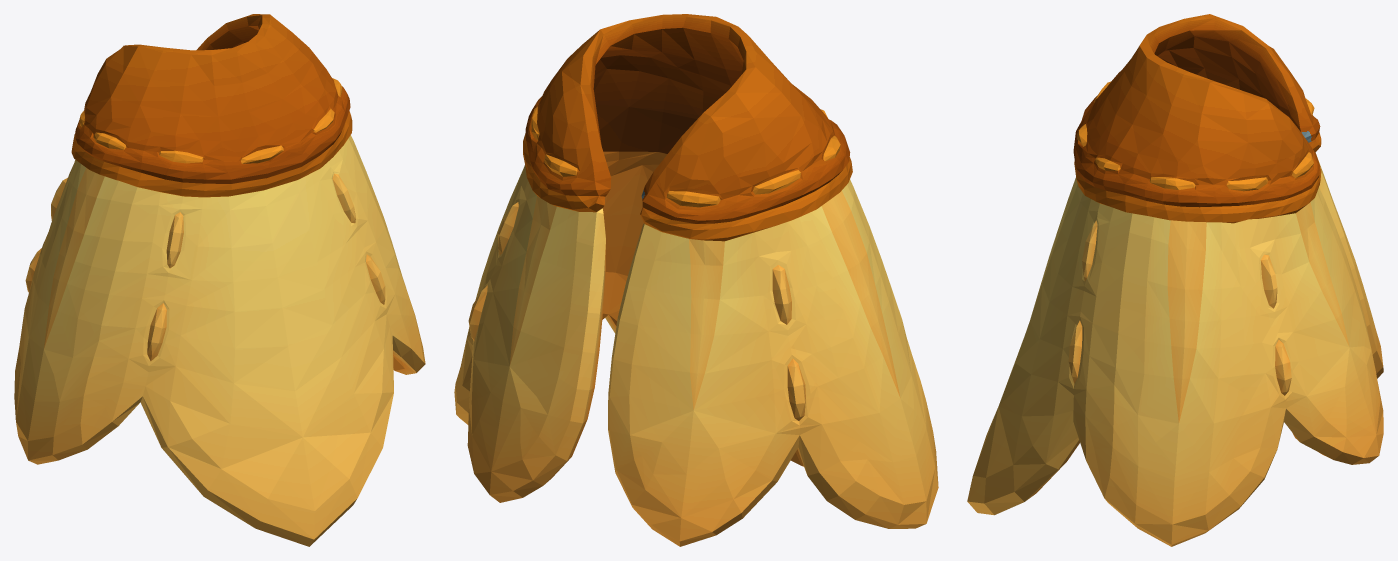
Rendered from CharSkyKid_Wing_BloomSunflower.glb.
3 renders of one model, left to right at view 1: azimuth 30°, elevation 25°; view 2: azimuth 150°, elevation 25°; view 3: azimuth 270°, elevation 25°, orthographic. The views are drawn at different scales.
Visible parts, largest first — view 1: CharSkyKid_Wing_BloomSunflower; view 2: CharSkyKid_Wing_BloomSunflower; view 3: CharSkyKid_Wing_BloomSunflower.
Part boxes in pixels (left/top/right/bottom): CharSkyKid_Wing_BloomSunflower: left=14, top=14, right=425, bottom=546; CharSkyKid_Wing_BloomSunflower: left=454, top=14, right=938, bottom=546; CharSkyKid_Wing_BloomSunflower: left=967, top=14, right=1383, bottom=546.
Size of the model in its own units: 6.06 by 6.57 by 5.27.
1 material, 1 textured.
